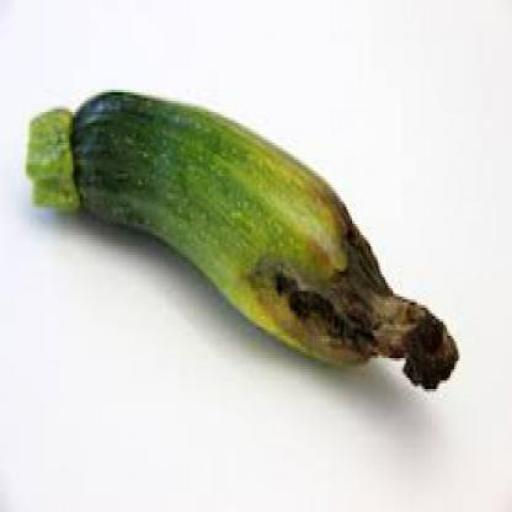biodegradable: (24, 86, 458, 389)
